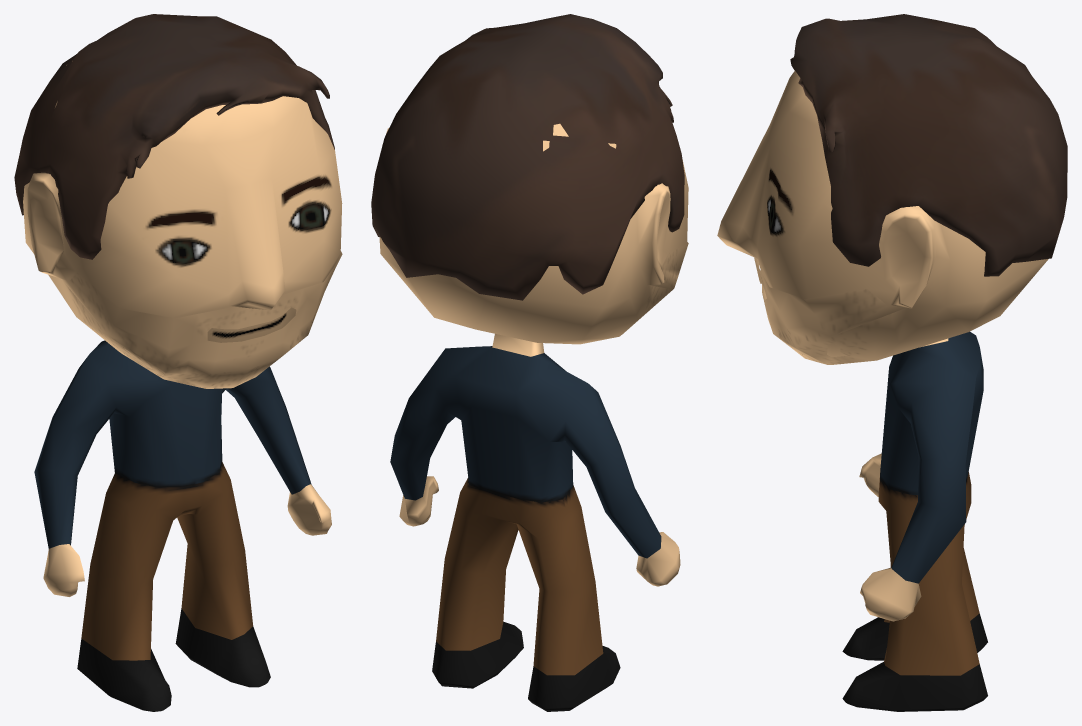
Rendered from Chris.fbx.
3 renders of one model, left to right at view 1: azimuth 30°, elevation 25°; view 2: azimuth 150°, elevation 25°; view 3: azimuth 270°, elevation 25°, orthographic. The views are drawn at different scales.
Parts seen in each view (by area): view 1: Chris_body, Chris_head, Chris_hair_low, Chris_beard; view 2: Chris_hair_low, Chris_body, Chris_head, Chris_beard; view 3: Chris_hair_low, Chris_body, Chris_head, Chris_beard.
Part boxes in pixels (x1=…): Chris_body: x1=34, y1=340, x2=331, y2=711; Chris_head: x1=23, y1=61, x2=342, y2=362; Chris_hair_low: x1=14, y1=14, x2=334, y2=259; Chris_beard: x1=61, y1=251, x2=342, y2=388; Chris_hair_low: x1=371, y1=14, x2=684, y2=300; Chris_body: x1=390, y1=334, x2=680, y2=711; Chris_head: x1=379, y1=123, x2=688, y2=344; Chris_beard: x1=623, y1=242, x2=688, y2=333; Chris_hair_low: x1=790, y1=14, x2=1067, y2=276; Chris_body: x1=842, y1=331, x2=987, y2=711; Chris_head: x1=717, y1=71, x2=1048, y2=364; Chris_beard: x1=754, y1=257, x2=906, y2=364.
Bounding box in the file's own units: 460 × 991 × 488.
